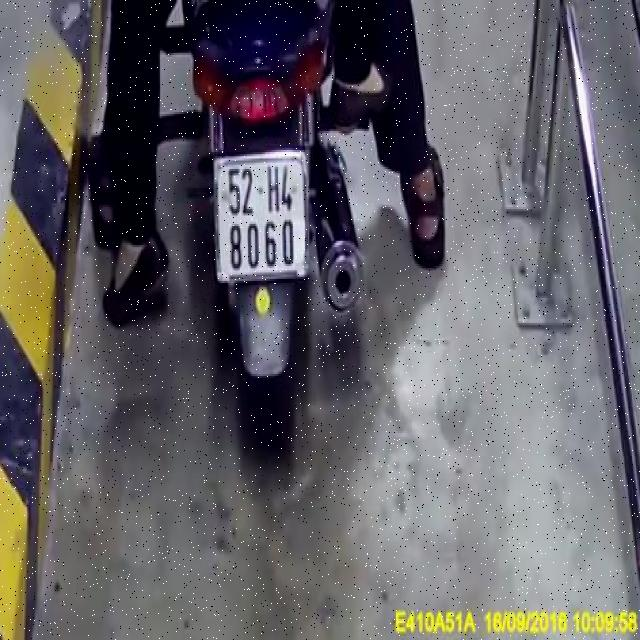0: (280, 215, 295, 267), (247, 220, 260, 272)
2: (242, 166, 255, 216)
4: (282, 162, 298, 212)
5: (227, 166, 241, 219)
6: (264, 218, 280, 269)
8: (225, 216, 243, 271)
H: (265, 164, 281, 217)
